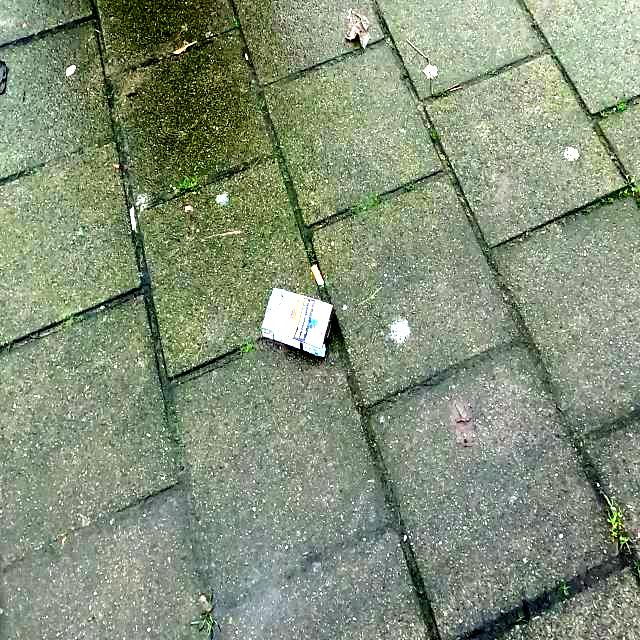Paper: (258, 283, 336, 361)
